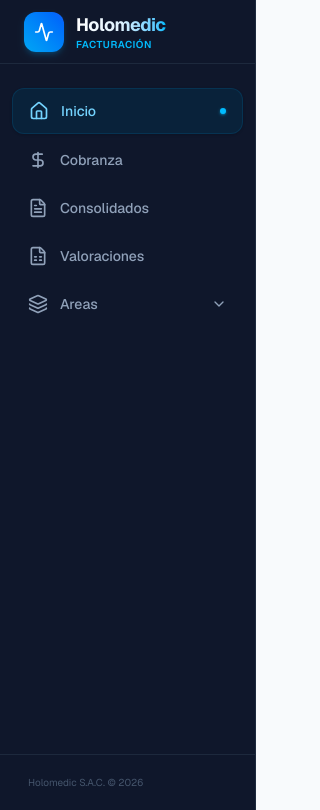
Test: Sidebar Component › AreasMenuItem dropdown › debe cambiar aria-expanded a true al abrir el dropdown
This screenshot has width=320, height=810.
What coordinates should you click on to do the following:
click the button "Areas"
I would click on:
 (128, 304)
Its box is [12,282,243,326].
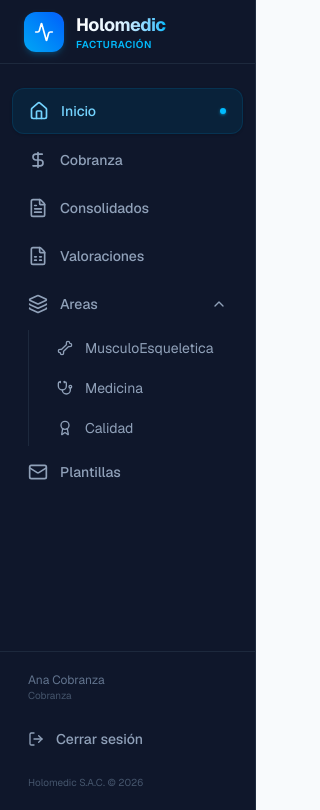
Now the button "Areas" is expanded, box [12,282,243,326]
